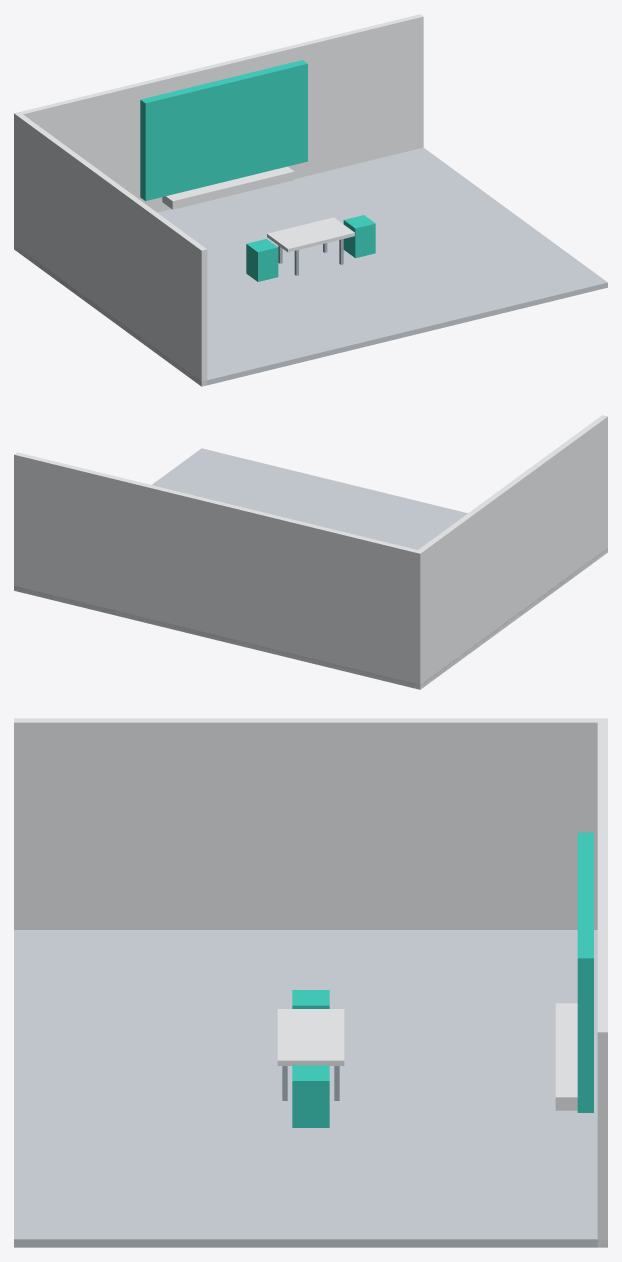
The picture shows the model from 3 angles, top to bottom: view 1: azimuth 30°, elevation 25°; view 2: azimuth 150°, elevation 25°; view 3: azimuth 270°, elevation 25°; orthographic projection. The views are drawn at different scales.
Parts seen in each view (by area): view 1: Exhibition Booth Concept; view 2: Exhibition Booth Concept; view 3: Exhibition Booth Concept.
Part boxes in pixels (x1=…): Exhibition Booth Concept: x1=14, y1=14, x2=607, y2=386; Exhibition Booth Concept: x1=14, y1=415, x2=607, y2=689; Exhibition Booth Concept: x1=14, y1=718, x2=607, y2=1247.
Bounding box in the file's own units: 10 × 3.2 × 8.
